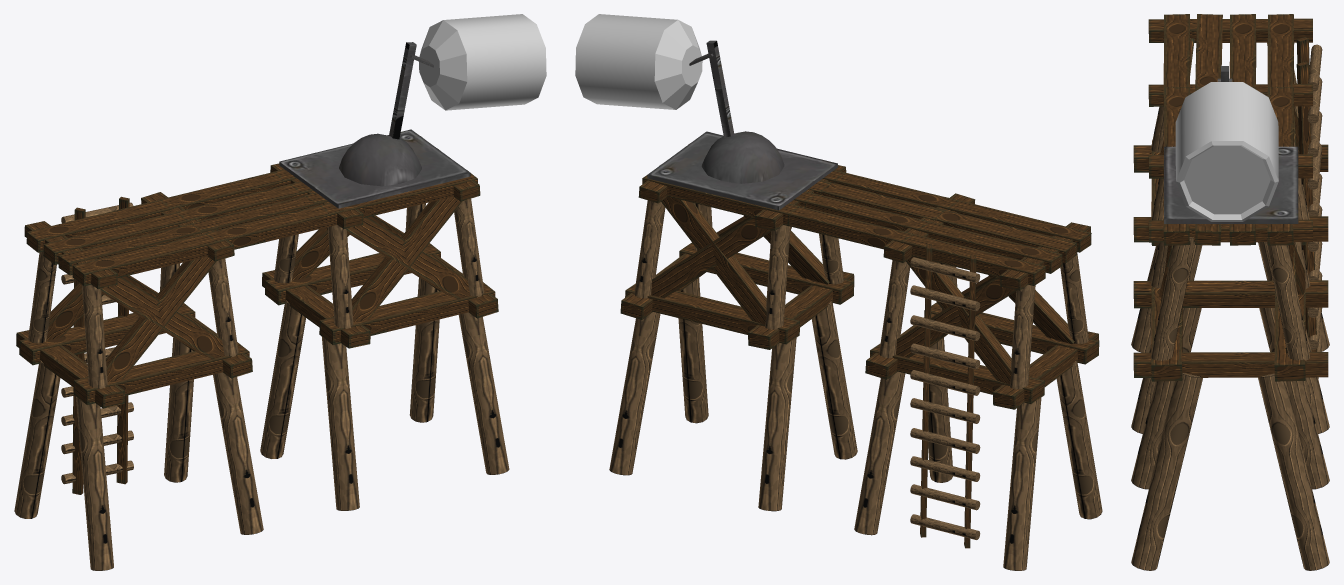
The model's file is tower.FBX.
3 renders of one model, left to right at view 1: azimuth 30°, elevation 25°; view 2: azimuth 150°, elevation 25°; view 3: azimuth 270°, elevation 25°, orthographic. The views are drawn at different scales.
Visible parts, largest first — view 1: Cylinder001, Box001, Cone025, Cone003, Cone004, Cone024, Cone002, Cone026, midden stukie018, midden stukie010, Sphere001, midden stukie031 (+33 smaller); view 2: Cylinder001, Box001, Cone026, Cone002, Cone023, Cone005, Cone025, Cone003, midden stukie027, Sphere001, midden stukie028, midden stukie023 (+43 smaller); view 3: Cylinder001, Cone024, Cone023, Box001, midden stukie029, midden stukie030, Cone025, Cone021, Cone028, Cone026, midden stukie004, midden stukie005 (+32 smaller).
Boxes of the visible parts, bbox=[...] form: Cylinder001: bbox=[419, 14, 546, 110]; Box001: bbox=[279, 129, 470, 208]; Cone025: bbox=[321, 336, 359, 510]; Cone003: bbox=[76, 396, 113, 570]; Cone004: bbox=[213, 372, 263, 534]; Cone024: bbox=[458, 312, 509, 474]; Cone002: bbox=[14, 360, 60, 518]; Cone026: bbox=[260, 300, 305, 458]; midden stukie018: bbox=[351, 196, 462, 321]; midden stukie010: bbox=[106, 256, 216, 381]; Sphere001: bbox=[339, 133, 421, 186]; midden stukie031: bbox=[319, 282, 495, 344]; Cylinder001: bbox=[575, 14, 702, 109]; Box001: bbox=[647, 131, 837, 210]; Cone026: bbox=[758, 338, 796, 511]; Cone002: bbox=[1003, 398, 1041, 570]; Cone023: bbox=[609, 312, 660, 475]; Cone005: bbox=[854, 371, 905, 535]; Cone025: bbox=[811, 300, 857, 459]; Cone003: bbox=[1056, 360, 1102, 519]; midden stukie027: bbox=[661, 196, 766, 324]; Sphere001: bbox=[701, 131, 784, 183]; midden stukie028: bbox=[625, 284, 799, 344]; midden stukie023: bbox=[651, 217, 772, 297]; Cylinder001: bbox=[1175, 82, 1278, 221]; Cone024: bbox=[1131, 373, 1202, 570]; Cone023: bbox=[1258, 373, 1329, 570]; Box001: bbox=[1164, 146, 1298, 223]; midden stukie029: bbox=[1133, 280, 1328, 308]; midden stukie030: bbox=[1133, 352, 1328, 377]; Cone025: bbox=[1131, 308, 1201, 489]; Cone021: bbox=[1150, 237, 1194, 360]; Cone028: bbox=[1266, 237, 1310, 360]; Cone026: bbox=[1259, 308, 1329, 489]; midden stukie004: bbox=[1163, 14, 1190, 101]; midden stukie005: bbox=[1267, 14, 1294, 96].
Bounding box in the file's own units: 233 × 199 × 74.42.
